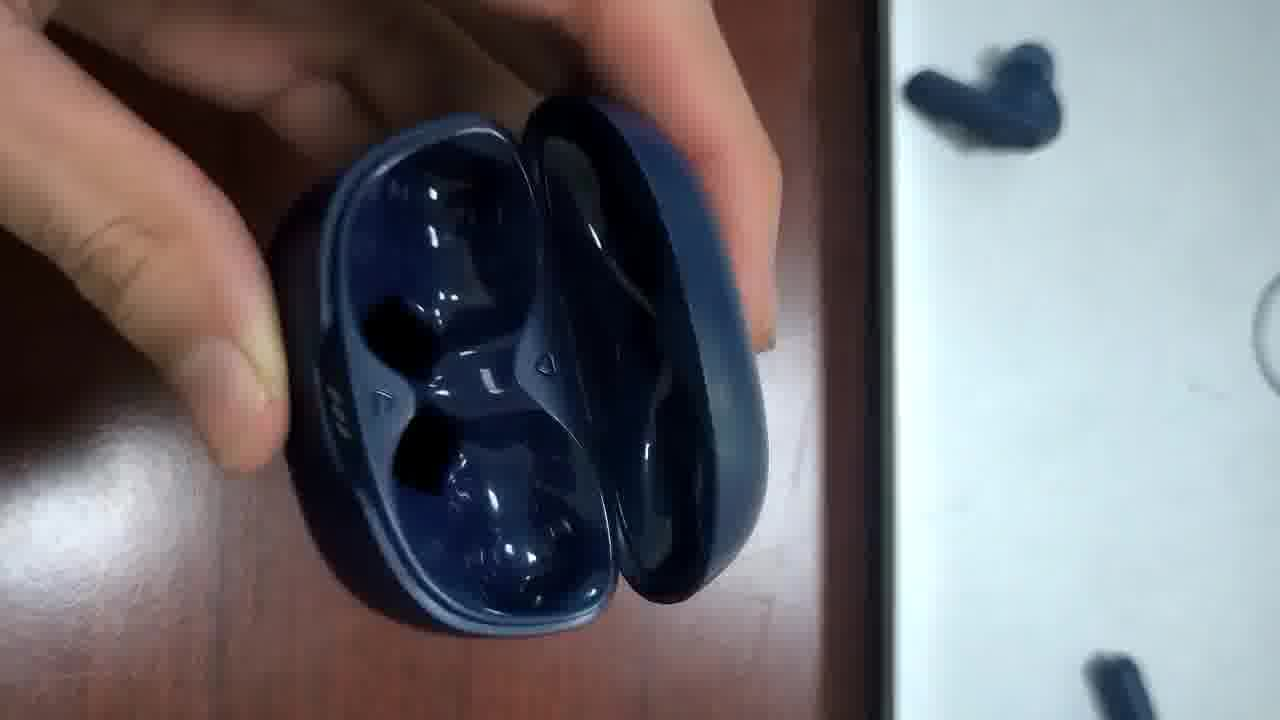Case: (270, 96, 766, 634)
Earbud: (904, 43, 1062, 148)
Empty_Slot: (386, 366, 607, 610), (330, 121, 550, 364)
